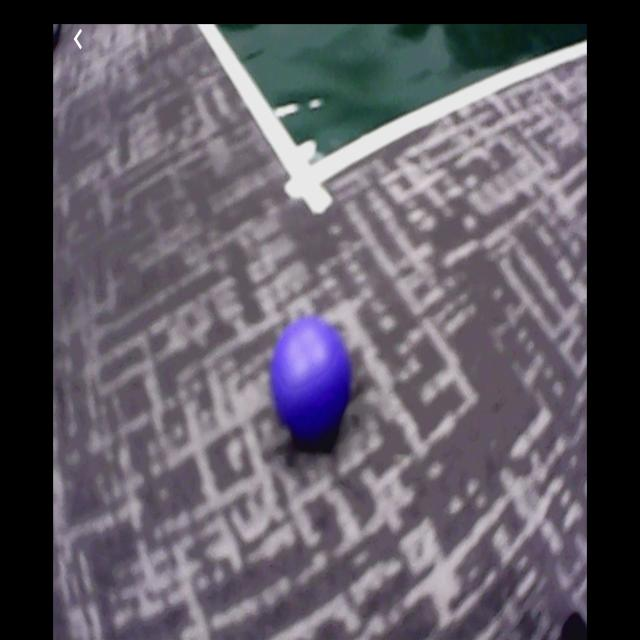ball: (274, 319, 352, 437)
